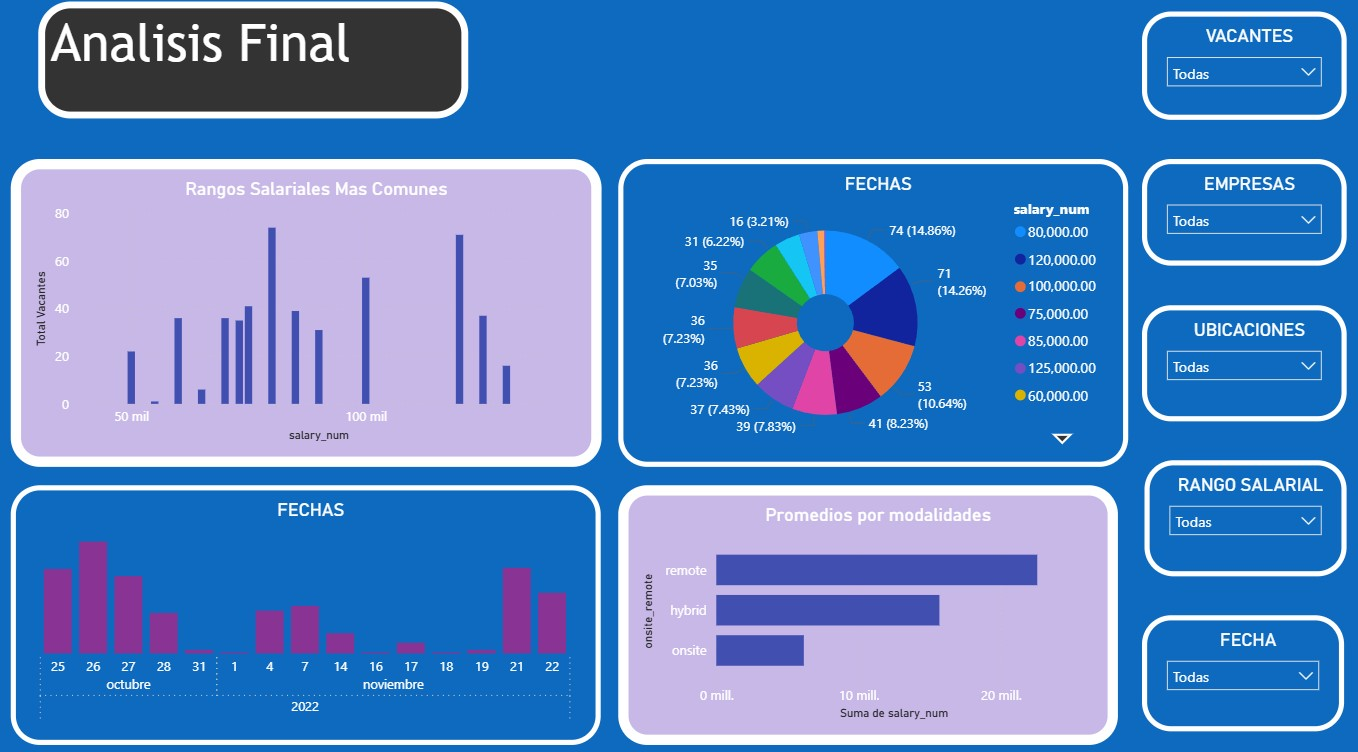

The page's visual inventory and layout, read from the dashboard file:
{"tool":"powerbi","page":{"name":"EX","canvas":[1280,720],"ordinal":3},"visuals":[{"type":"textbox","box":[43.1,12,399.9,109],"z":0},{"type":"slicer","title":"VACANTES","fields":{"Values":["jobs.title"]},"box":[1069.3,20.4,190.4,100.6],"z":1000},{"type":"slicer","title":"EMPRESAS","fields":{"Values":["jobs.company"]},"box":[1069.3,157.8,190.4,99.4],"z":2000},{"type":"slicer","title":"UBICACIONES","fields":{"Values":["jobs.location"]},"box":[1069.3,294,190.4,107.8],"z":3000},{"type":"slicer","title":"RANGO SALARIAL","fields":{"Values":["jobs.salary_num"]},"box":[1071.7,438.5,188,107.8],"z":4000},{"type":"slicer","title":"FECHA","fields":{"Values":["jobs.posted_date"]},"box":[1069.3,583.1,188,107.8],"z":5000},{"type":"columnChart","title":"Rangos Salariales Mas Comunes","fields":{"Category":["jobs.salary_num"],"Y":["jobs.Total Vacantes"]},"box":[18,158.1,549.6,286.2],"z":6000},{"type":"lineStackedColumnComboChart","title":"FECHAS","fields":{"Y":["jobs.Total Vacantes"],"Category":["jobs.posted_date.Variación.Jerarquía de fechas.Año","jobs.posted_date.Variación.Jerarquía de fechas.Mes","jobs.posted_date.Variación.Jerarquía de fechas.Día"]},"box":[18,462.2,548.4,241.9],"z":6001},{"type":"barChart","title":"Promedios por modalidades","fields":{"Y":["Sum(jobs.salary_num)"],"Category":["jobs.onsite_remote"]},"box":[583.1,462.2,464.6,241.9],"z":6002},{"type":"donutChart","title":"FECHAS","fields":{"Category":["jobs.salary_num"],"Y":["CountNonNull(jobs.location)"]},"box":[583.1,158.1,474.2,286.2],"z":6003}]}

Visuals, with their boxes in screenshot pixels (x1, y1, x2, y2), scaled from the page's 1280x720 canvas onto the 1358x752 screenshot:
textbox: [x1=46, y1=13, x2=470, y2=126]
"VACANTES" slicer: [x1=1134, y1=21, x2=1336, y2=126]
"EMPRESAS" slicer: [x1=1134, y1=165, x2=1336, y2=269]
"UBICACIONES" slicer: [x1=1134, y1=307, x2=1336, y2=420]
"RANGO SALARIAL" slicer: [x1=1137, y1=458, x2=1336, y2=571]
"FECHA" slicer: [x1=1134, y1=609, x2=1334, y2=722]
"Rangos Salariales Mas Comunes" columnChart: [x1=19, y1=165, x2=602, y2=464]
"FECHAS" lineStackedColumnComboChart: [x1=19, y1=483, x2=601, y2=735]
"Promedios por modalidades" barChart: [x1=619, y1=483, x2=1112, y2=735]
"FECHAS" donutChart: [x1=619, y1=165, x2=1122, y2=464]
